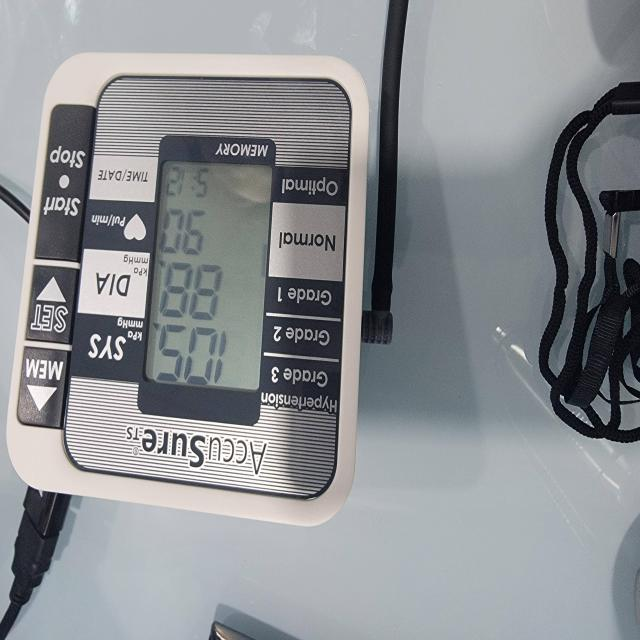bp: (12, 55, 369, 525)
